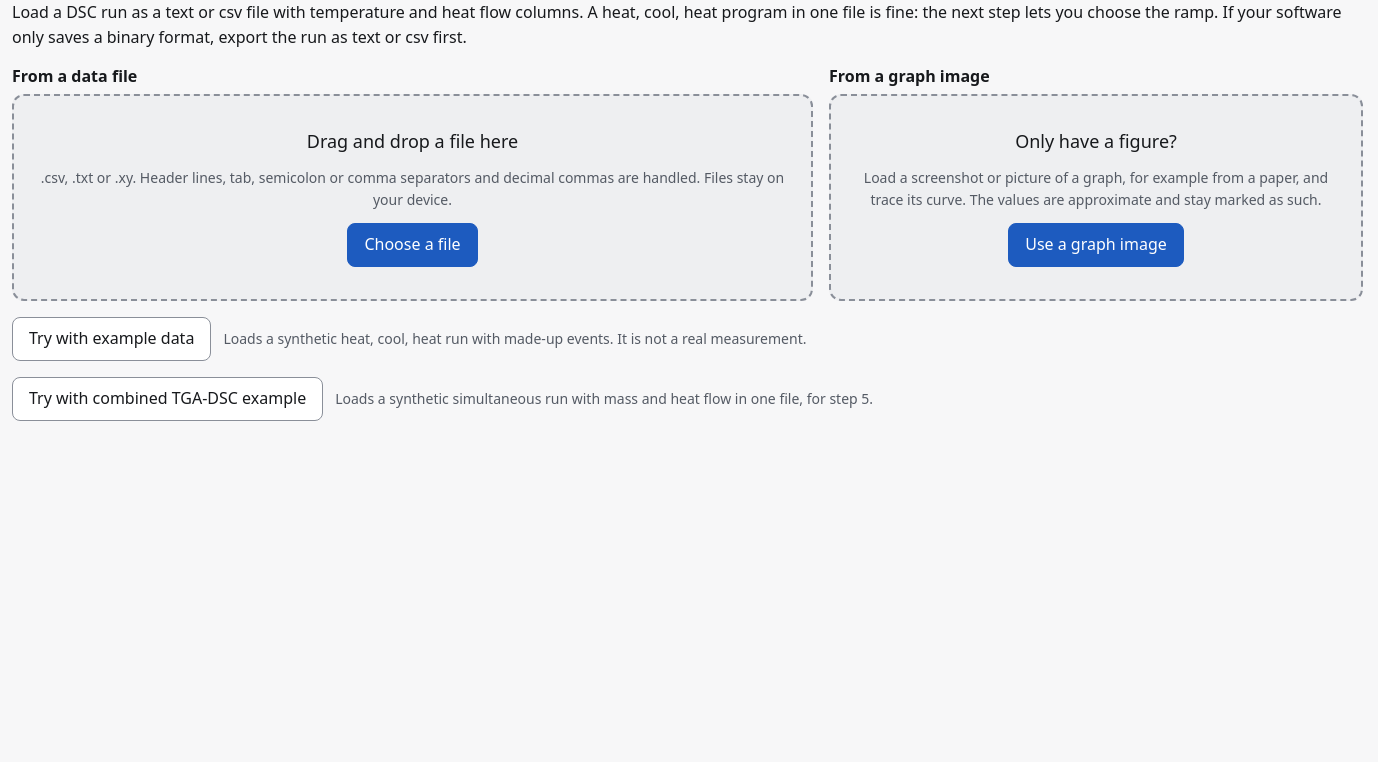
Test case: combined TGA-DSC › loads the combined example from the upload step
Click the button "Try with combined TGA-DSC example" at {"x": 168, "y": 399}, box [12,377,323,421]
(page scrolled)
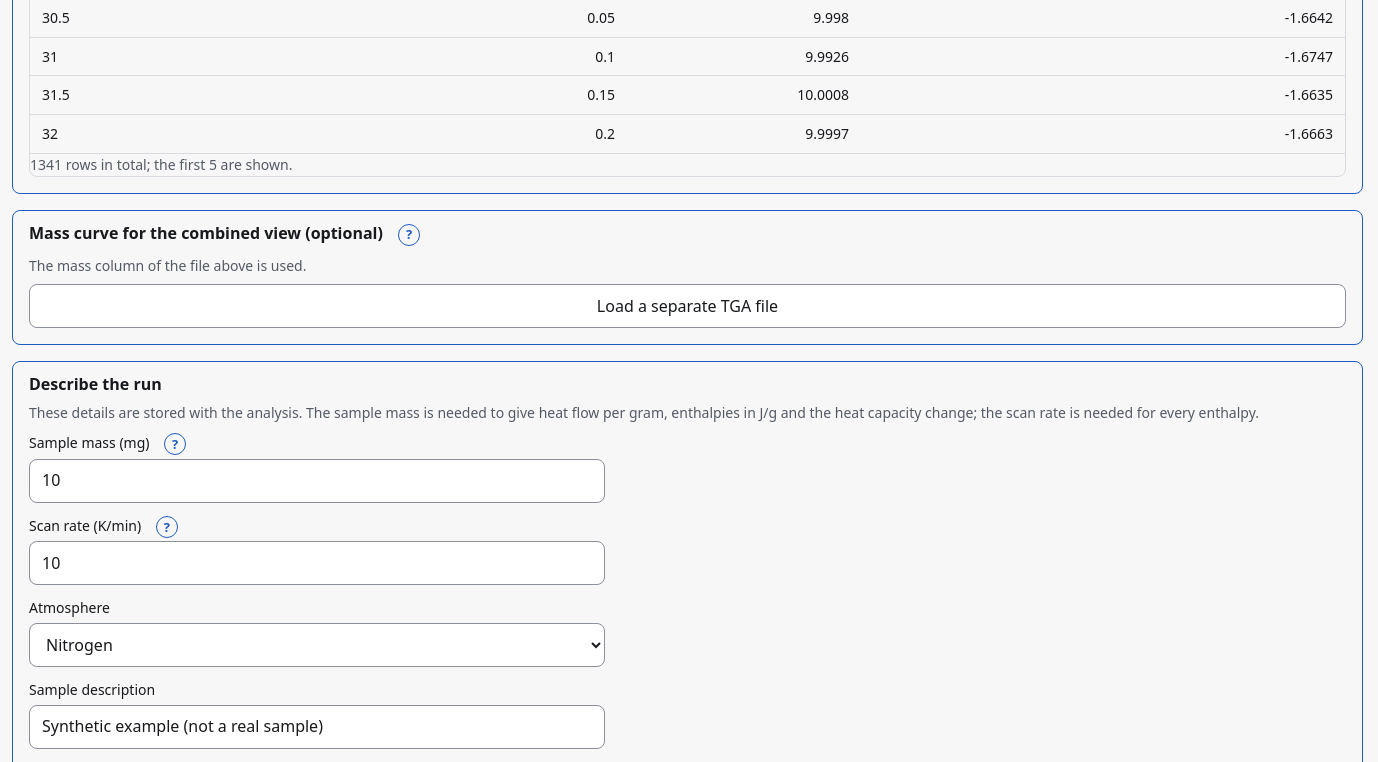
Result: the heading "Describe the run" is shown at [29,373,162,395]
